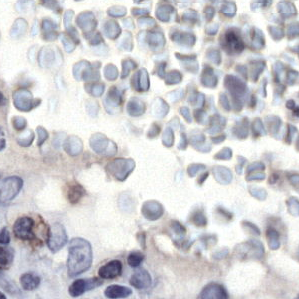Lymphocyte: (12, 210, 52, 245)
